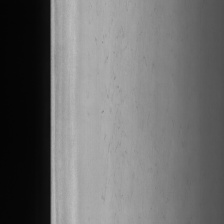silk_spot: (89, 12, 148, 188)
